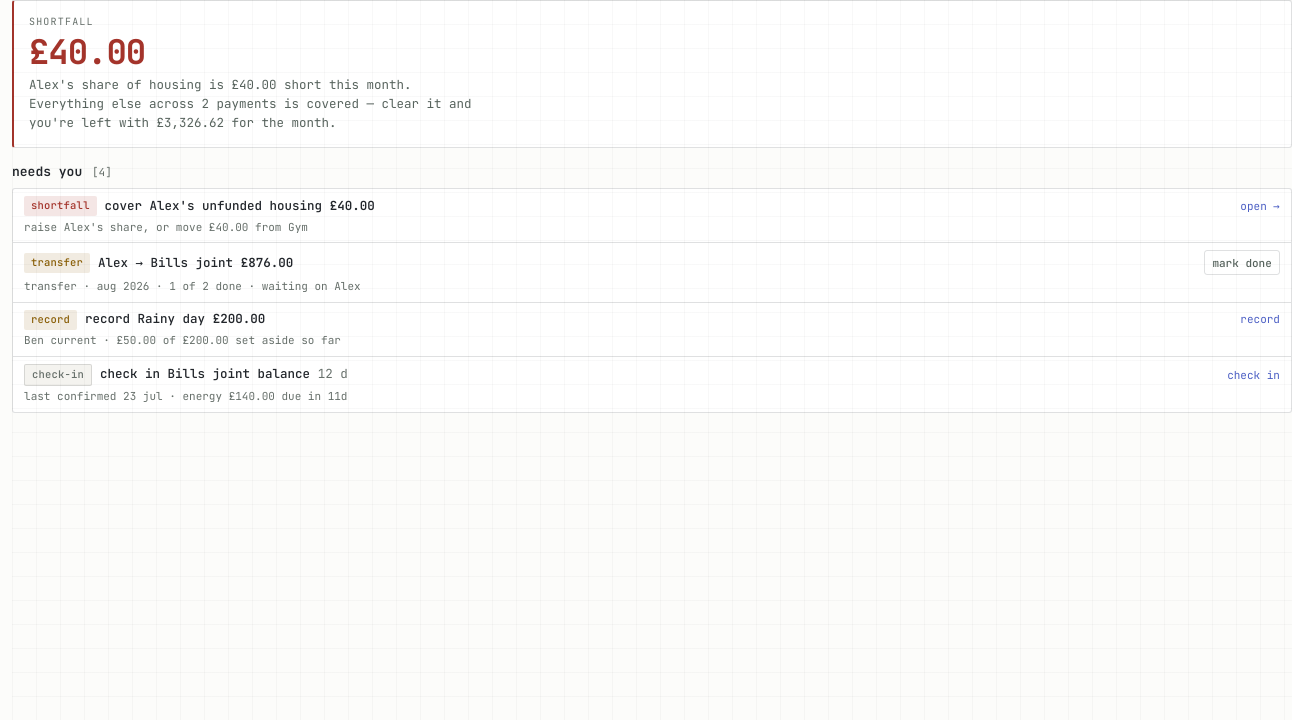
Test: Fold · transfer › puts the row back when the undo goes through
This screenshot has width=1292, height=720.
Click the button "mark done": (1242, 263) [1204,250,1280,276]
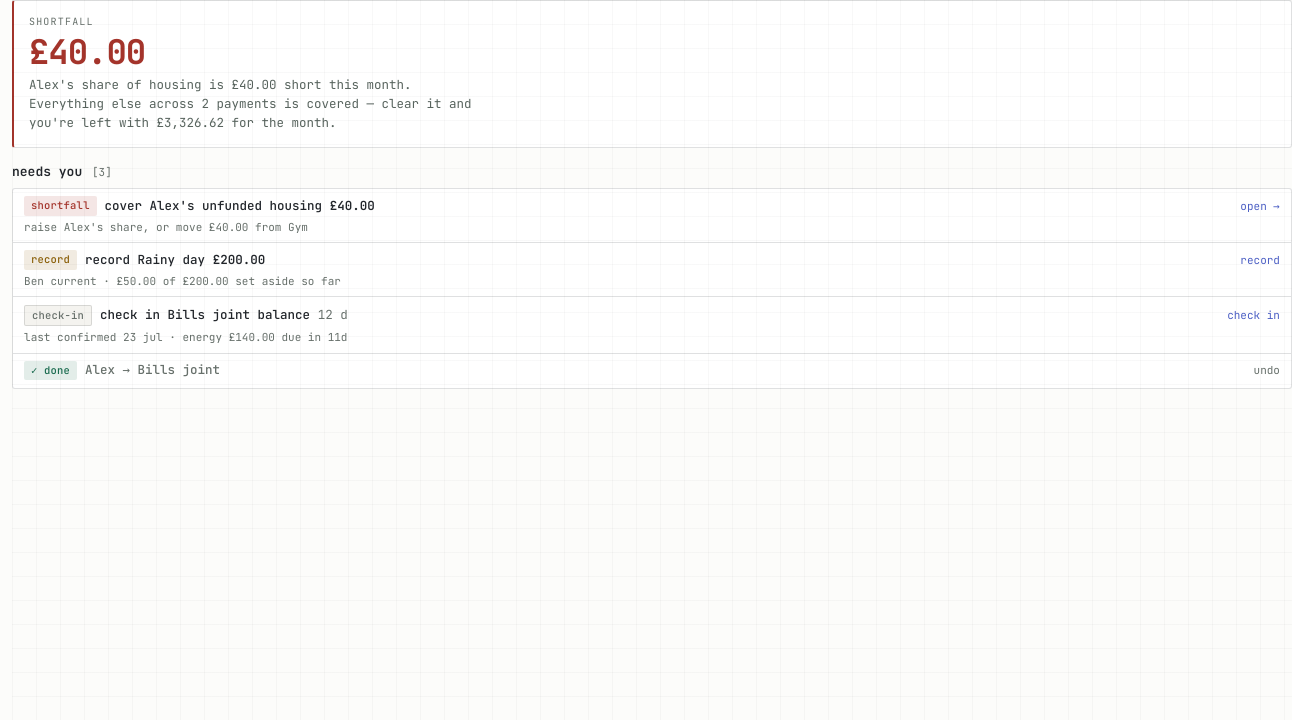
Click the button "undo": (1267, 371) [1254,362,1280,379]
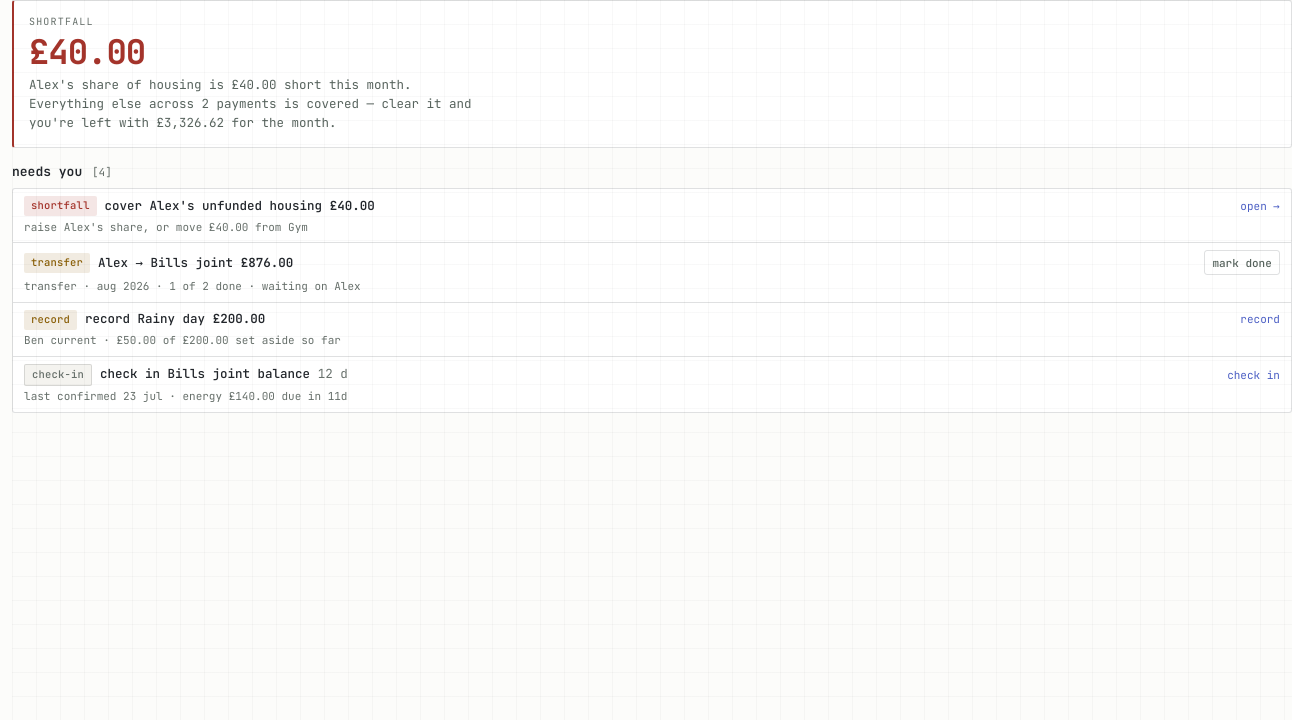
Now the button "mark done" is shown, box [1204,250,1280,276]
Now the text "✓ done" is gone
